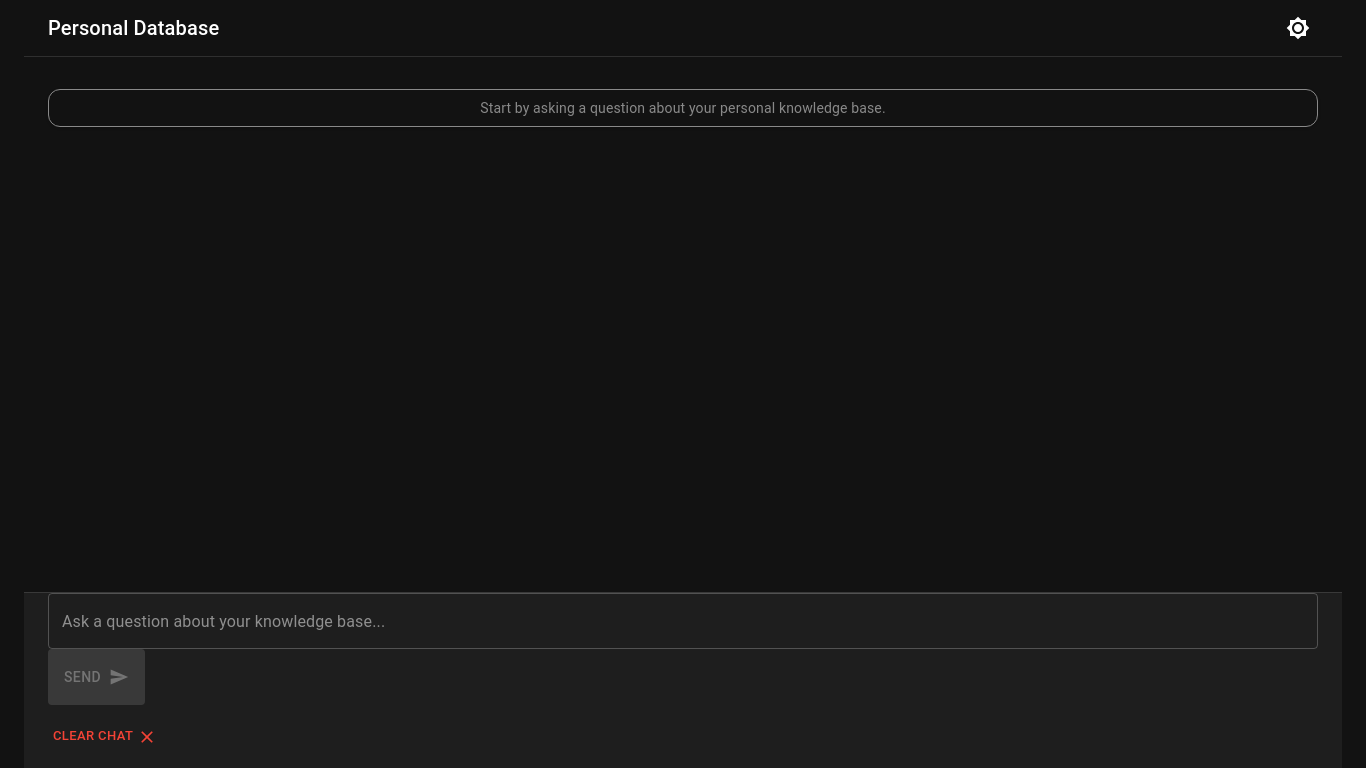
Test: App › Sending messages › shows loading state while waiting for response
Type "What is this?" into the field with placeholder "Ask a question about your knowledge base..." at (683, 621), box 48,593 -> 1318,649
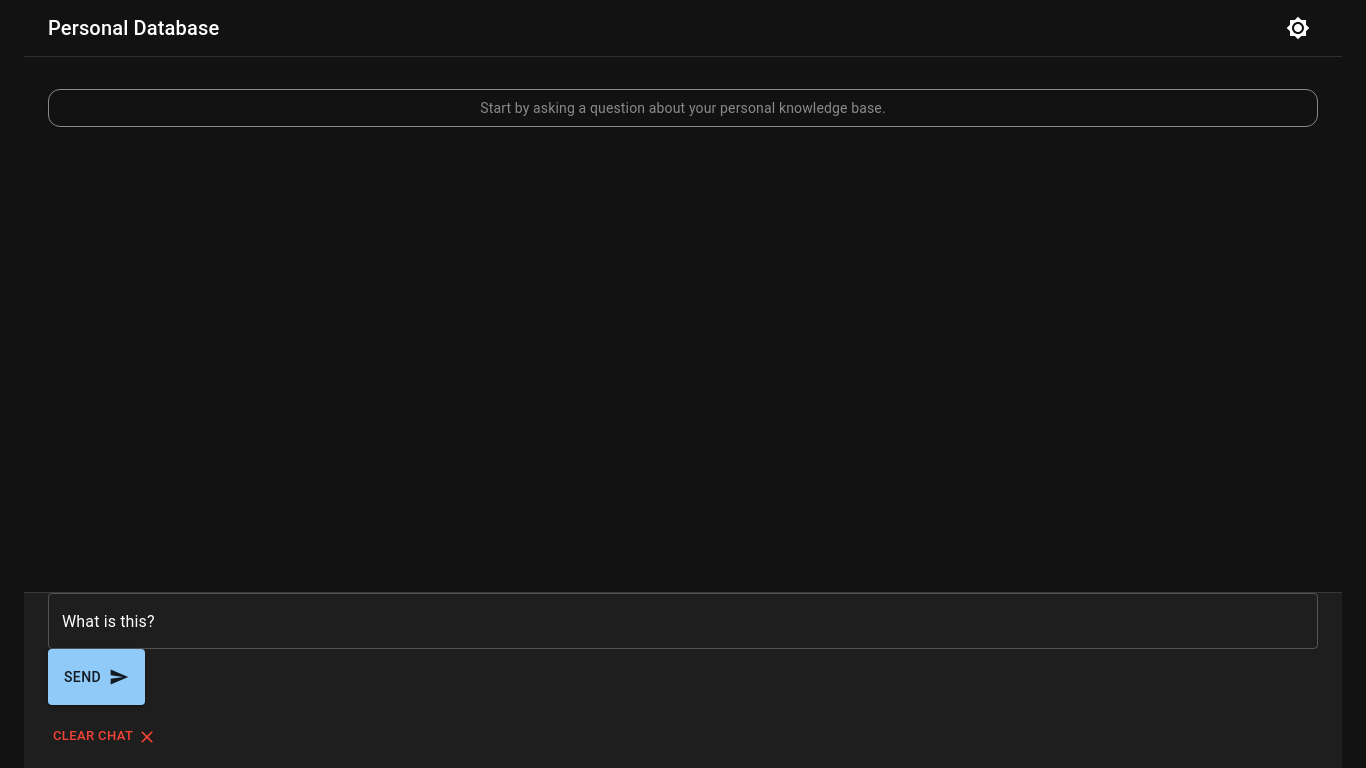
Submit the form, box 48,593 -> 1318,705
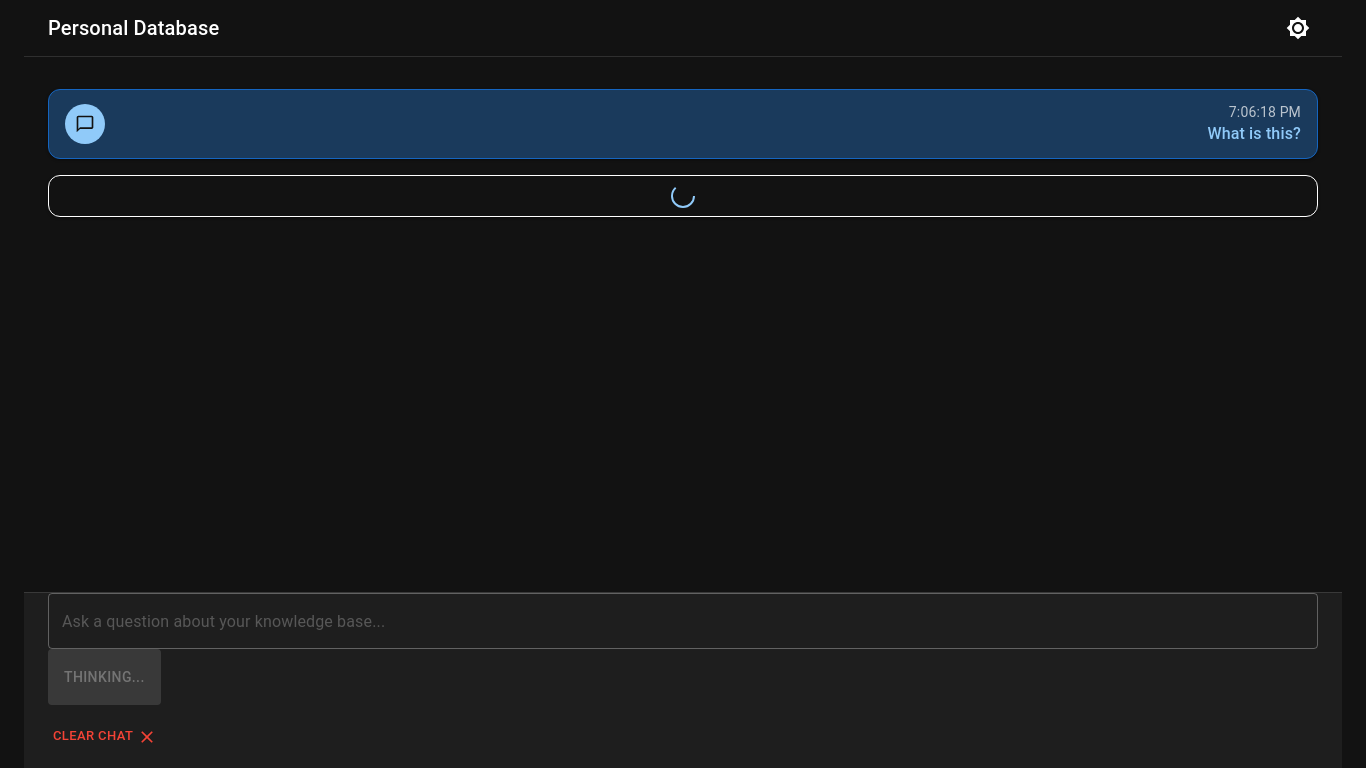
Result: the progress indicator is shown at 671,184 -> 695,208
